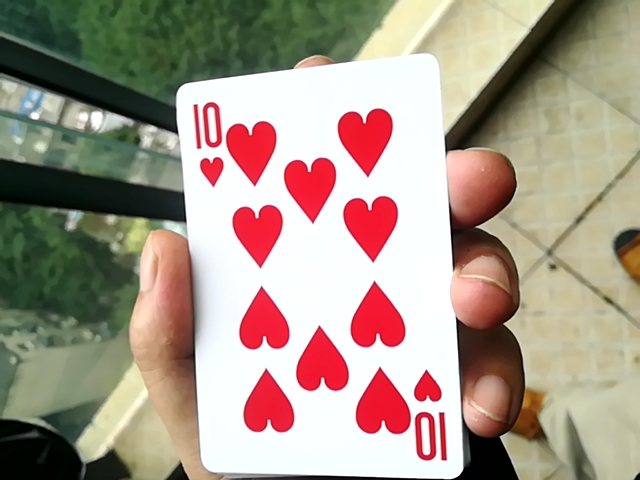hx 10: (165, 36, 461, 471)
